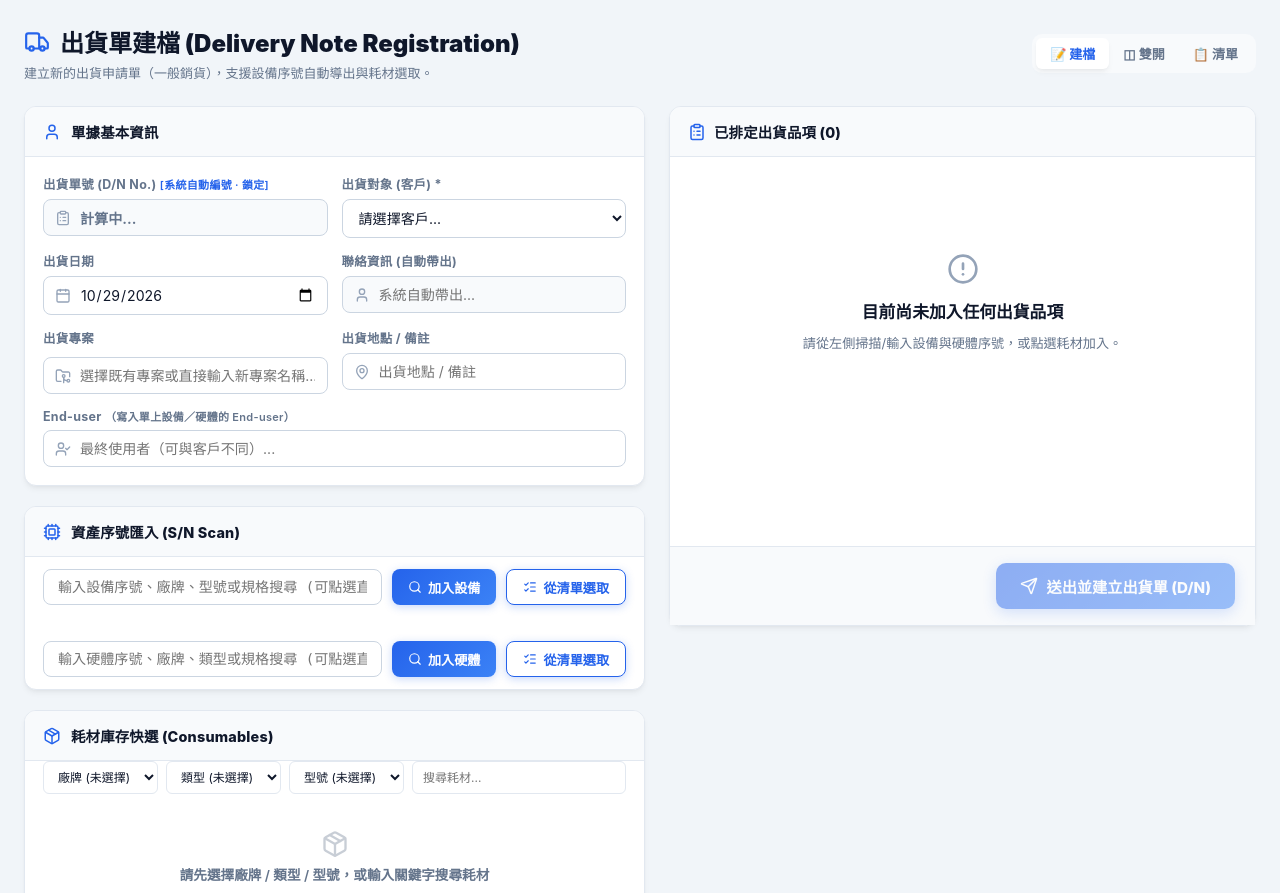
Test: 出貨單上使用勾選視窗 › 勾選多台後一次加入，逐台走既有的加入流程
Click the 1st button "從清單選取" at (566, 587), box [506,569,626,605]
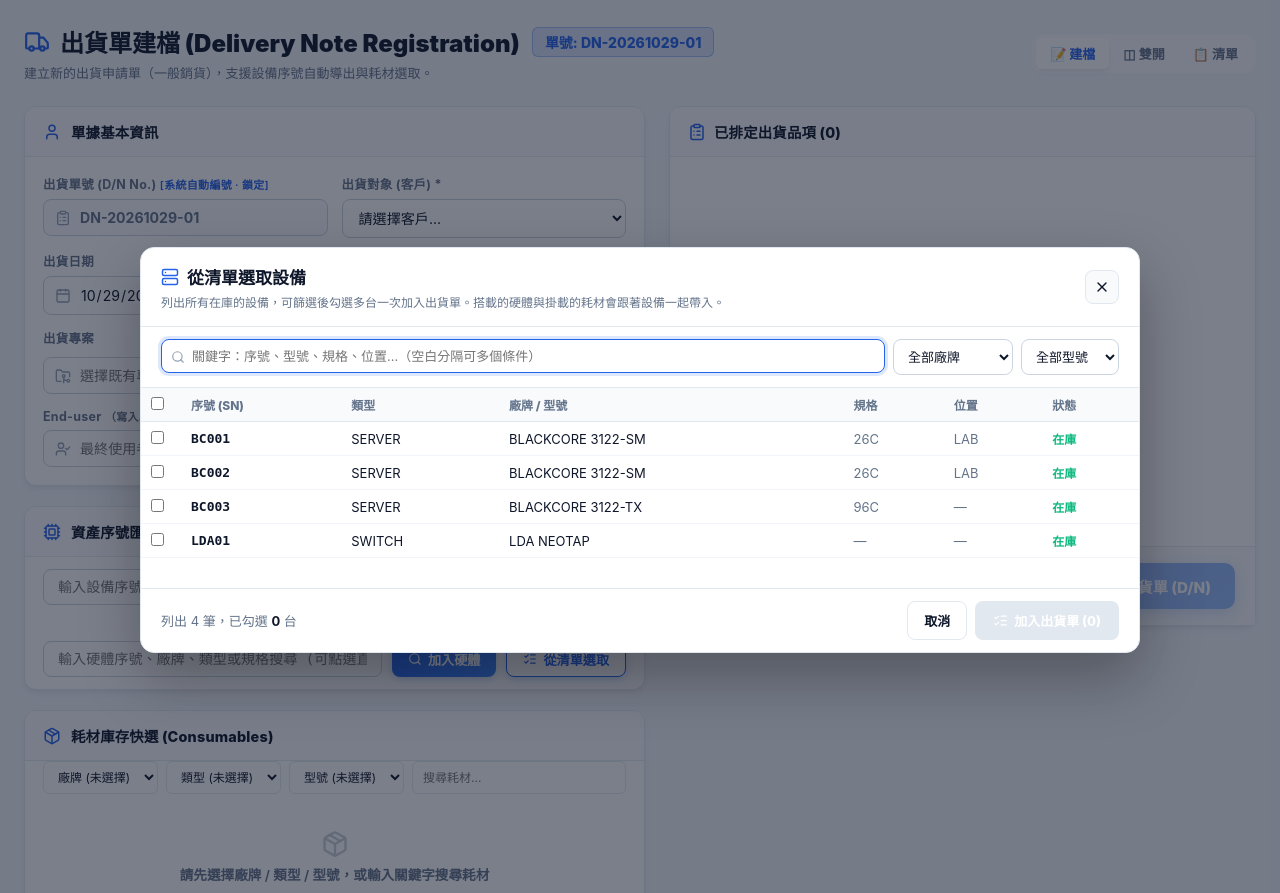
Click the checkbox named "選取 BC001" at (158, 437), box [151,430,164,444]
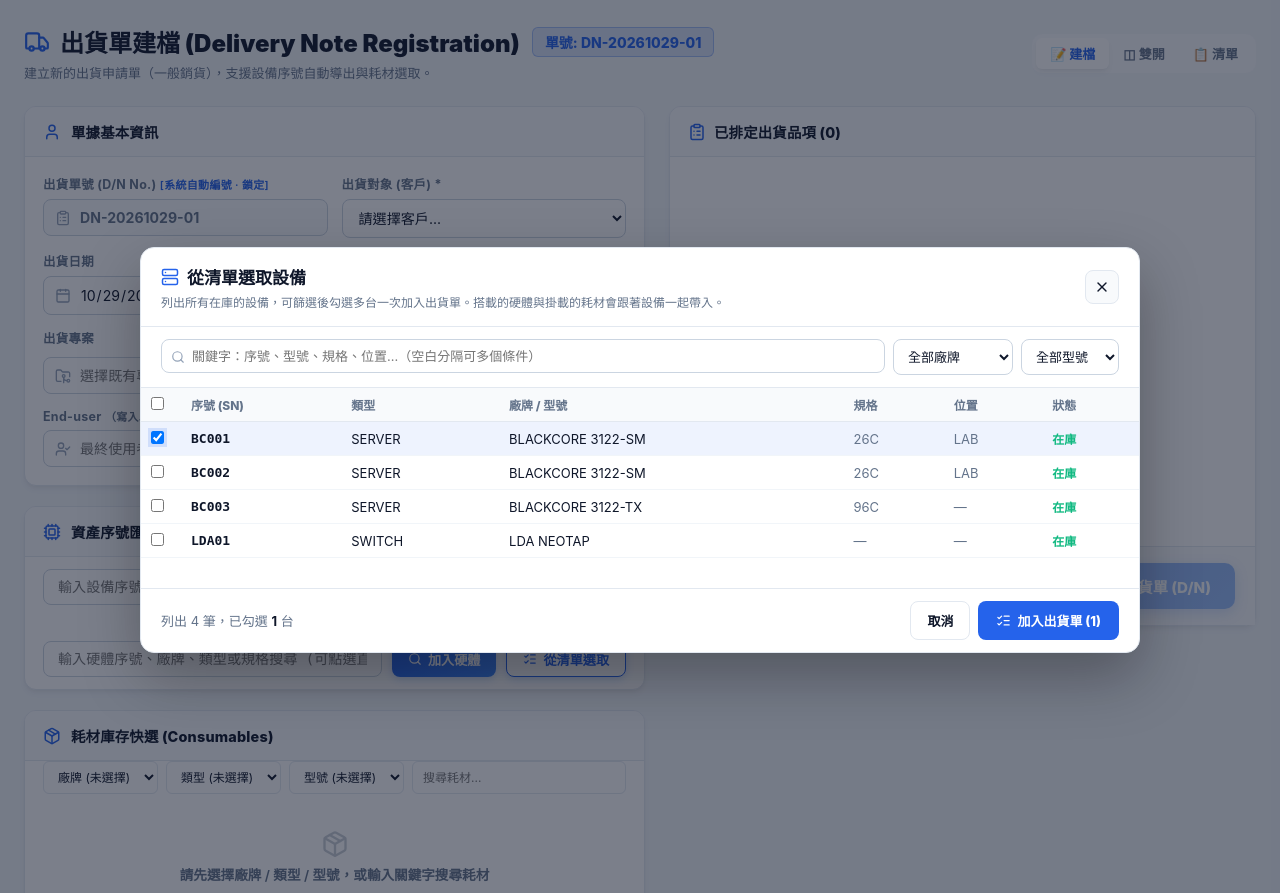
Click the checkbox named "選取 LDA01" at (158, 539), box [151,532,164,546]
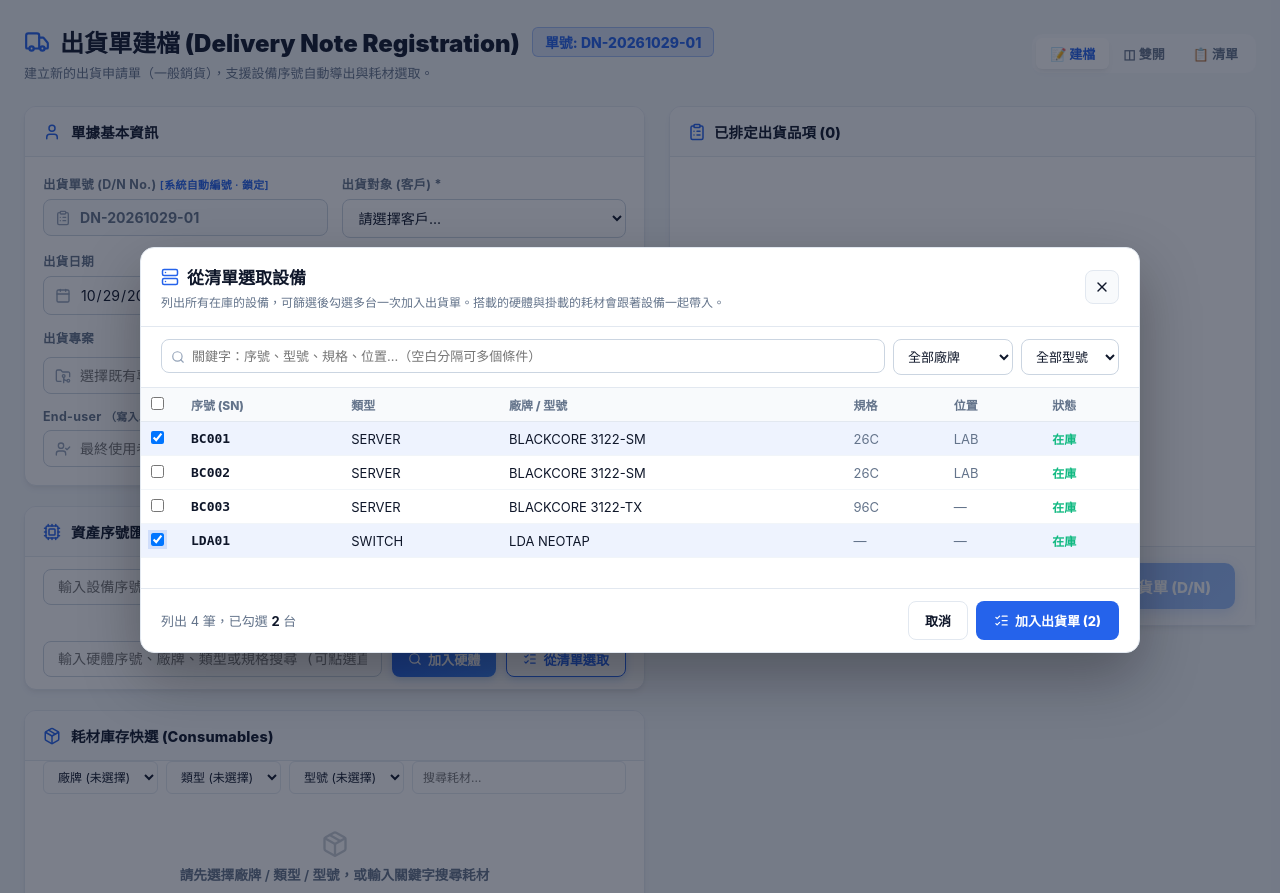
Click the button "加入出貨單 (2)" at (1047, 620), box [976,601,1119,640]
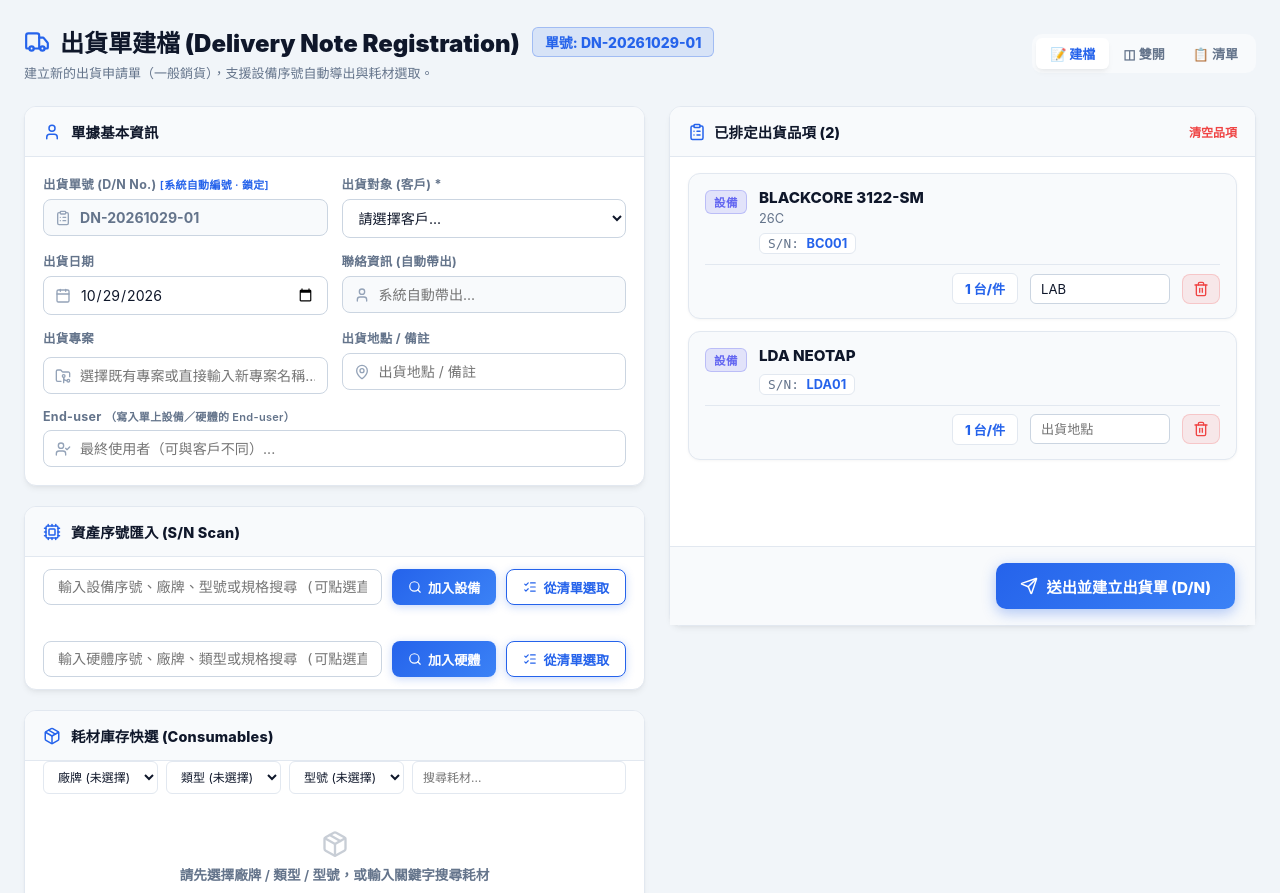
Now the text "BC001" is shown, box [807,236,847,251]
Now the text "LDA01" is shown, box [807,377,846,392]
Now the heading "從清單選取設備" is gone
